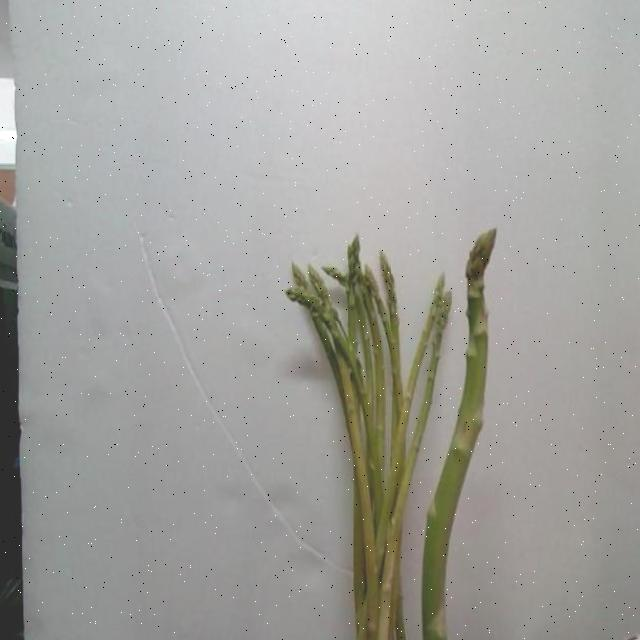aspargus: (419, 230, 498, 640)
